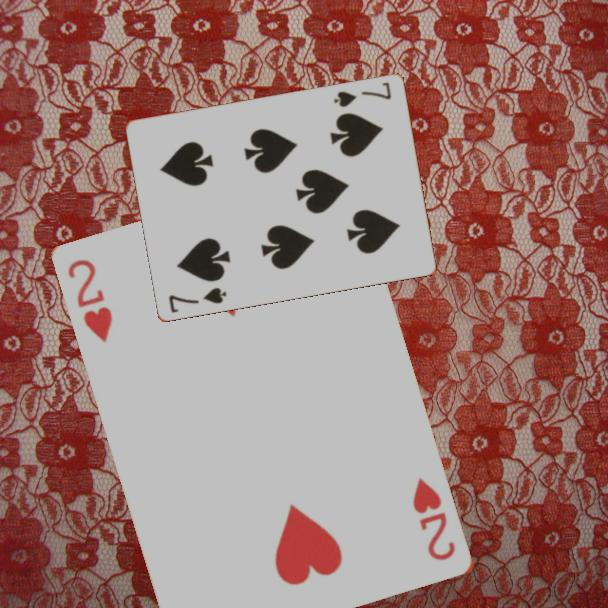h02: (64, 256, 116, 346), (409, 474, 459, 564)
s07: (165, 283, 230, 315), (331, 78, 395, 110)
